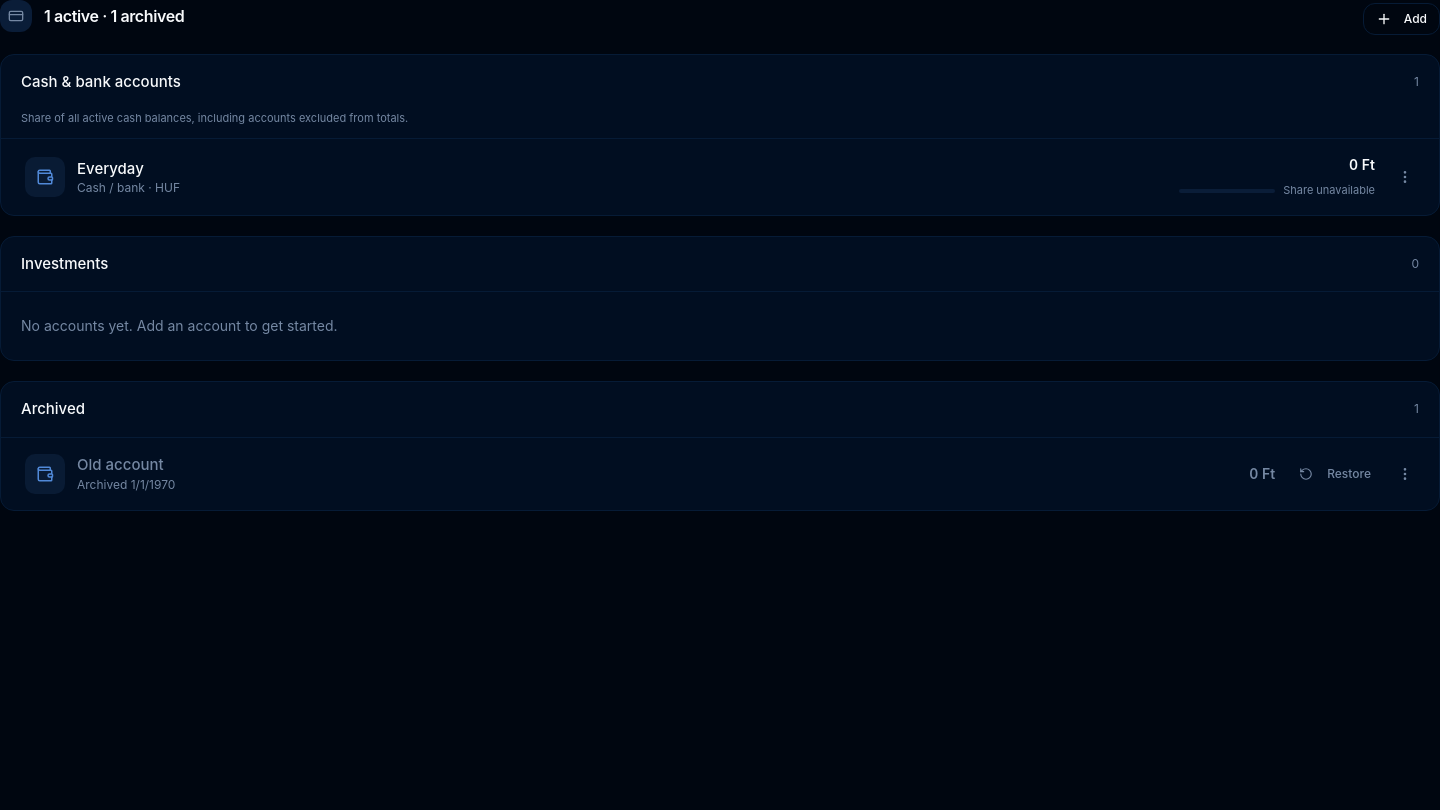
dedicated account management › defaults to the existing adjustment confirmation flow and retains the draft on cancel
The width and height of the screenshot is (1440, 810).
Click the button with aria-label "Edit Everyday" at {"x": 45, "y": 177}, box x1=17 y1=147 x2=1383 y2=207
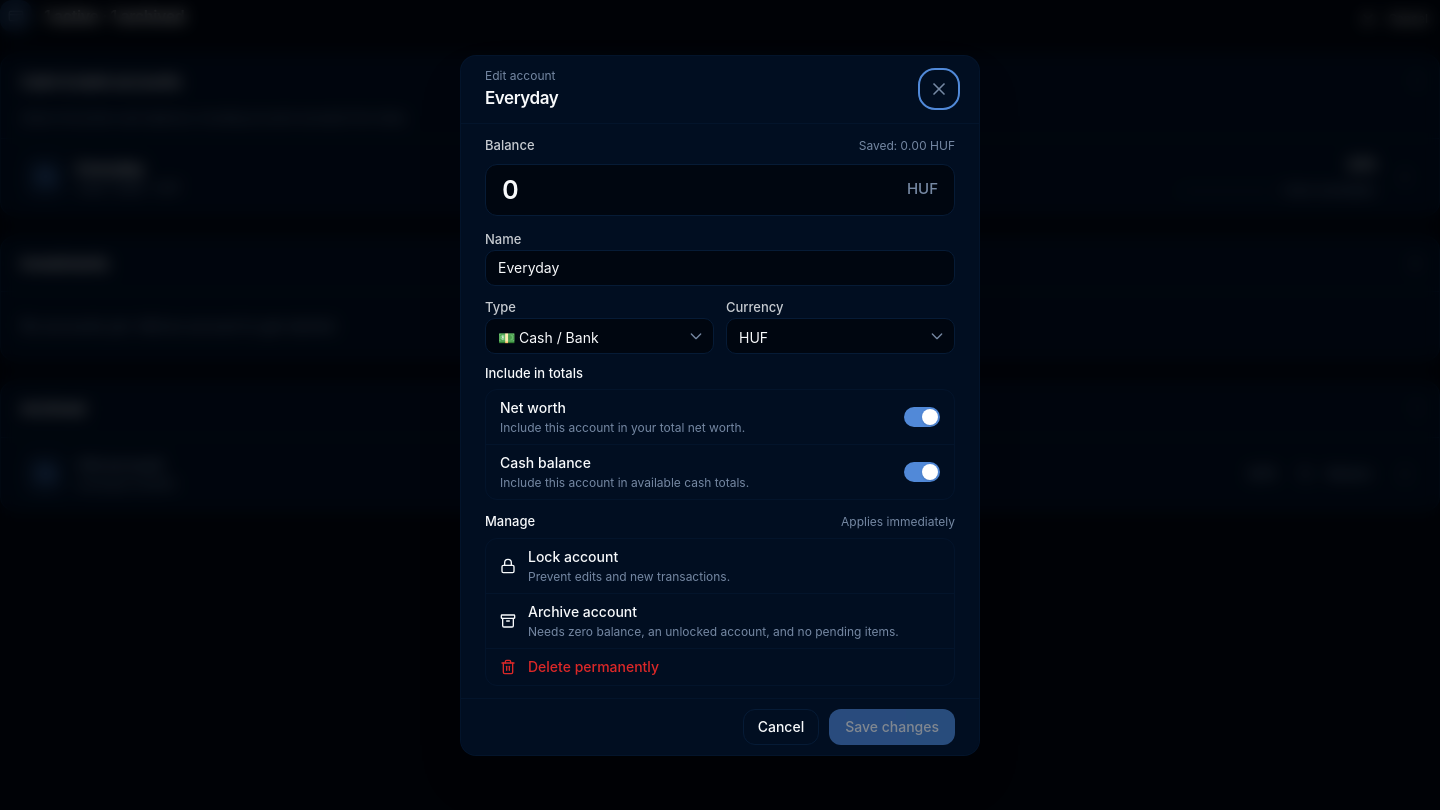
Type "125,50" into the field labelled "Balance" at {"x": 699, "y": 190}, box x1=502 y1=170 x2=897 y2=209
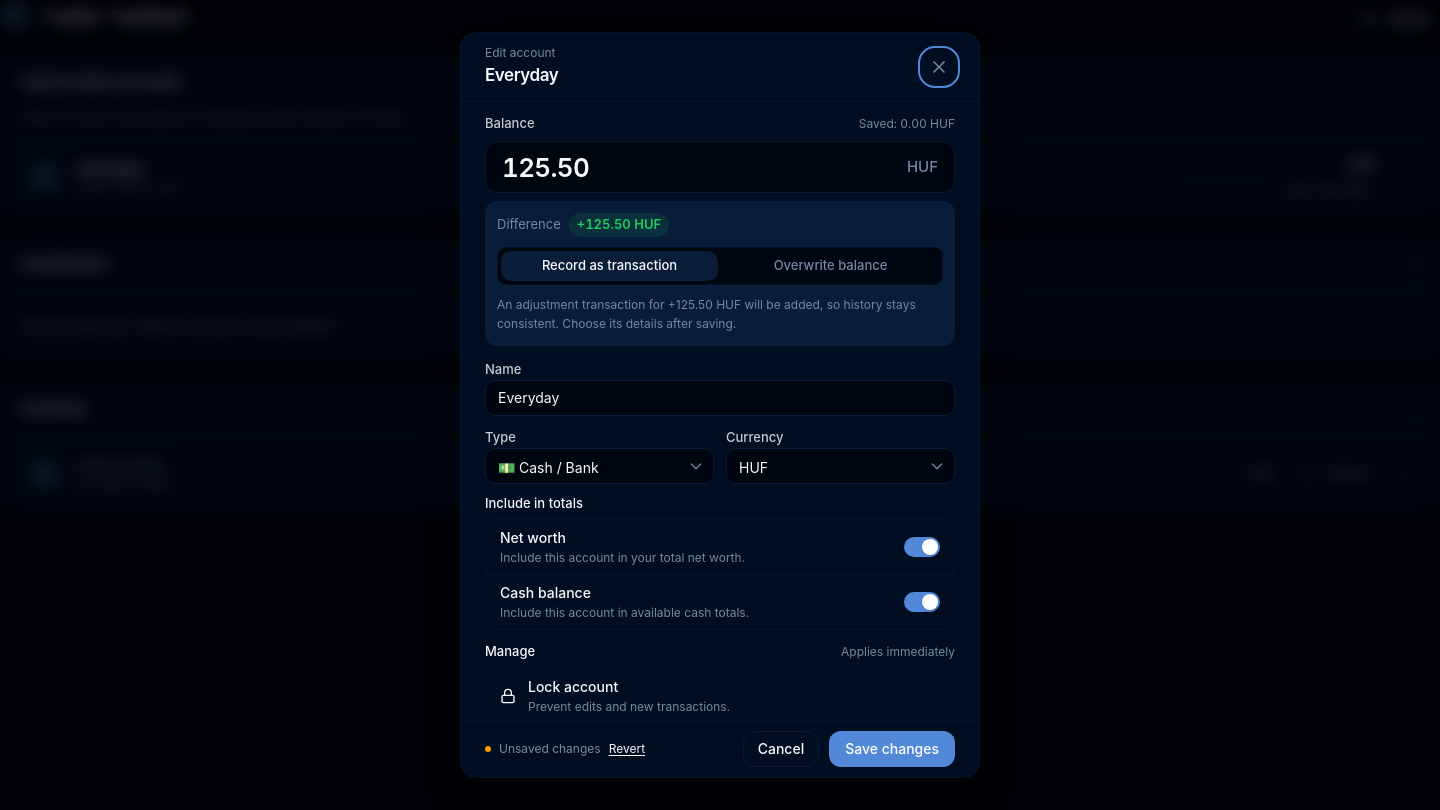
Click the button "Save changes" at {"x": 892, "y": 749}, box x1=829 y1=731 x2=955 y2=767
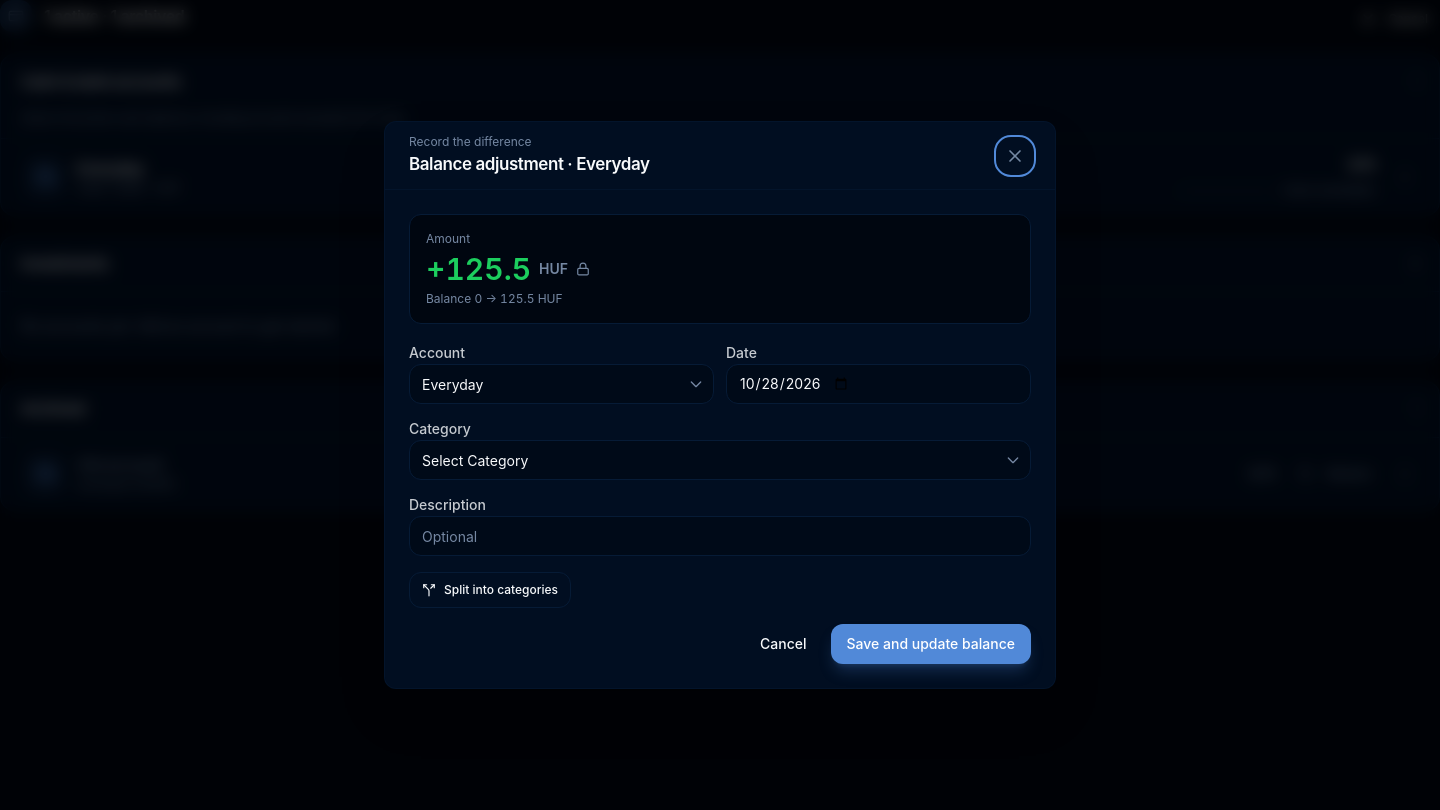
Expected: the dialog "Record the difference" shows "Balance adjustment · Everyday", x1=409 y1=154 x2=650 y2=174
Expected: the heading "Edit account" is gone
Click the button "Cancel" at {"x": 783, "y": 644}, box x1=744 y1=624 x2=822 y2=664
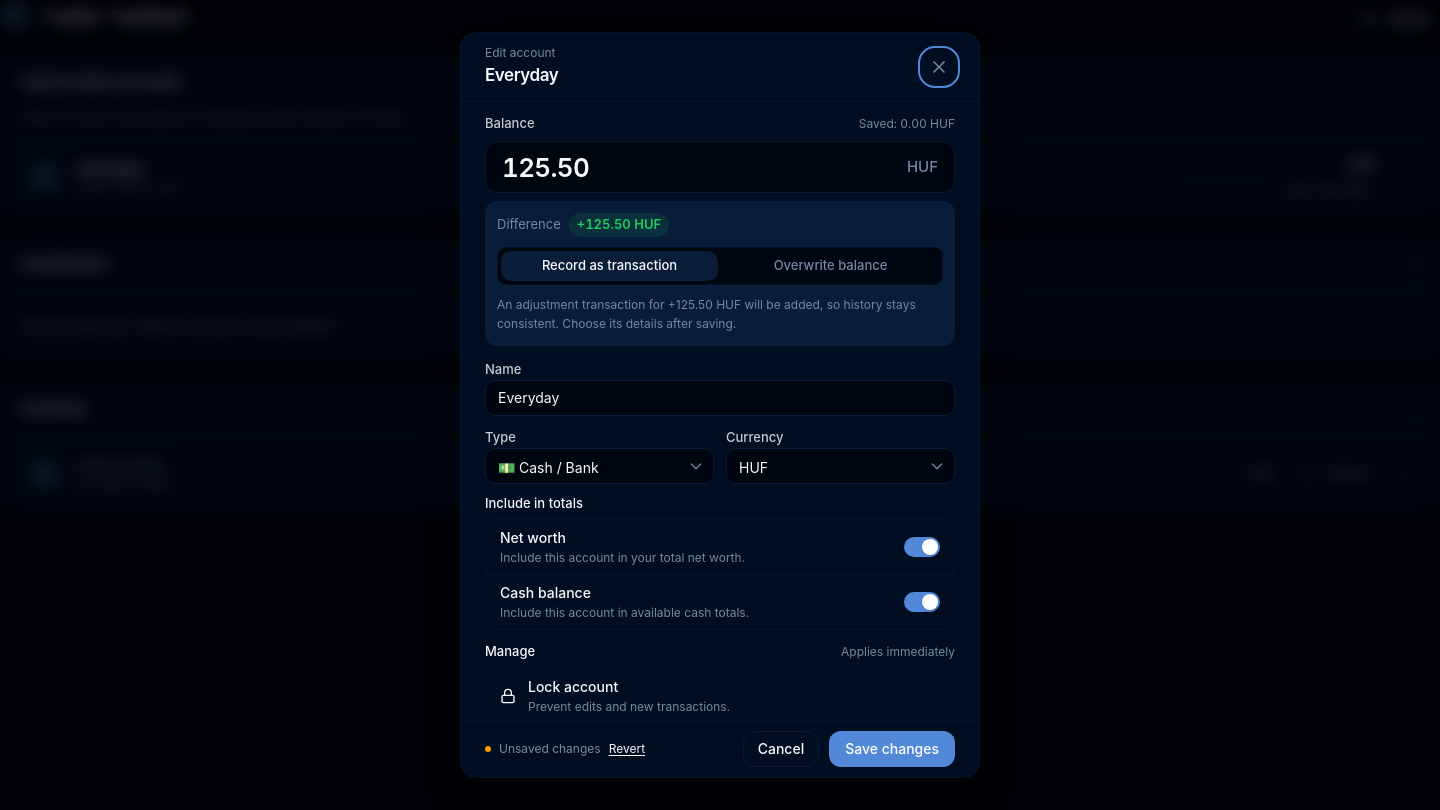
Expected: the field labelled "Balance" holds "125.50", x1=502 y1=148 x2=897 y2=187
